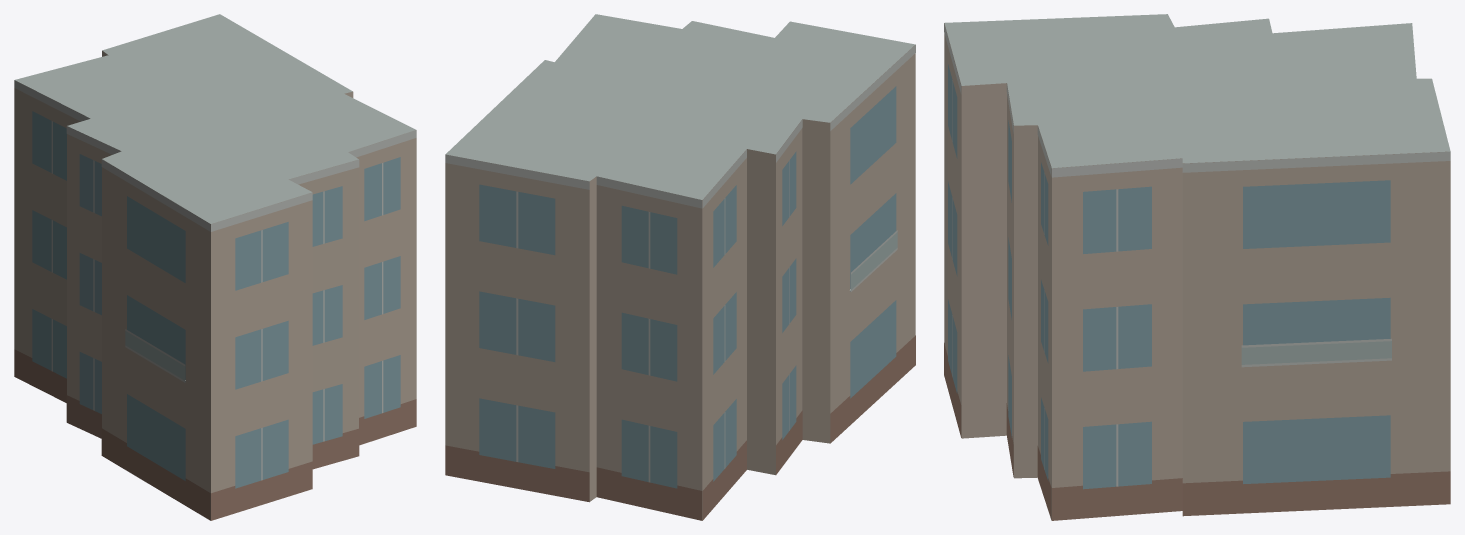
The model's file is survey-upis-32534230.glb.
3 views of the same model, side by side, from view 1: azimuth 30°, elevation 25°; view 2: azimuth 150°, elevation 25°; view 3: azimuth 270°, elevation 25° (orthographic). The views are drawn at different scales.
Visible parts, largest first — view 1: survey-upis-32534230.tmp; view 2: survey-upis-32534230.tmp; view 3: survey-upis-32534230.tmp.
Part boxes in pixels (x1,y1,x2,y2): survey-upis-32534230.tmp: (14,14,416,520); survey-upis-32534230.tmp: (445,14,915,520); survey-upis-32534230.tmp: (944,14,1450,520).
Size of the model in its own units: 8.59 by 9.15 by 11.92.
